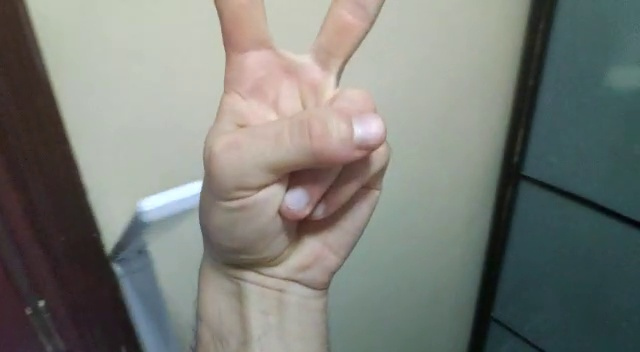Peace: (194, 1, 395, 273)
